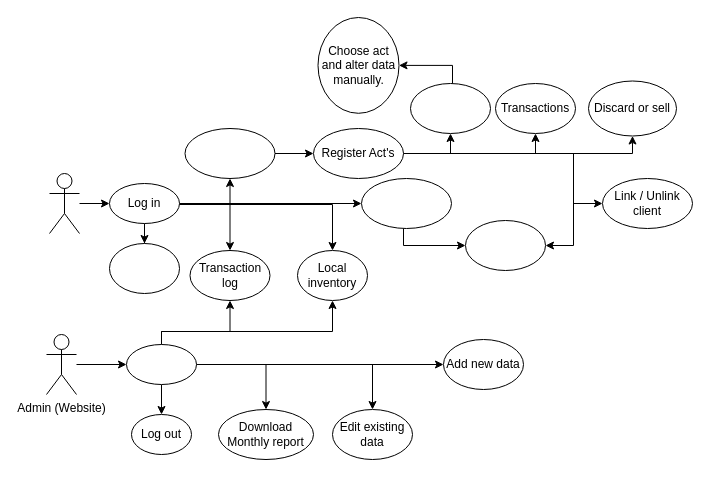
The diagram is 710 pixels wide and 477 high, and some of its shapes have lost their labels. The shapes that lost their labels are listed below. From the top down, each one's centre as x and y in pixels, then its label:
At (x=450, y=108): "Maintenance".
At (x=229, y=153): "Container details".
At (x=64, y=203): "User (App)".
At (x=406, y=203): "Refill multiple containers".
At (x=505, y=245): "Refill container".
At (x=144, y=268): "Log out / switch user".
At (x=161, y=364): "Log in w/ 2 factor".
